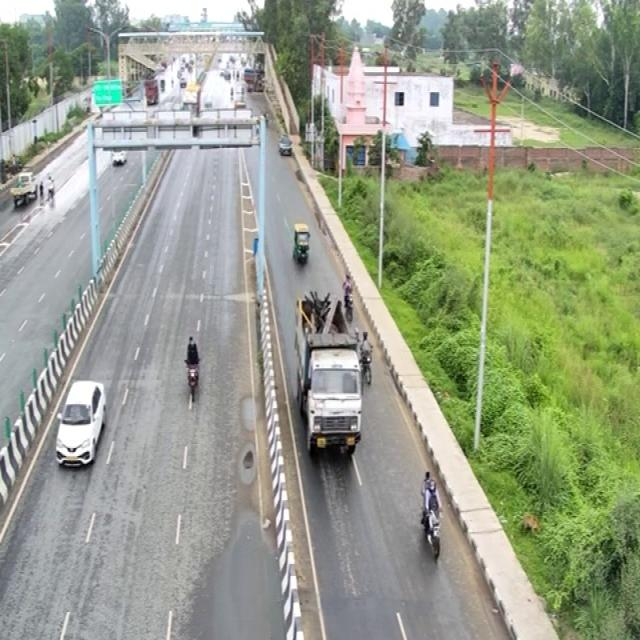car: (51, 370, 110, 470), (287, 216, 316, 271)
